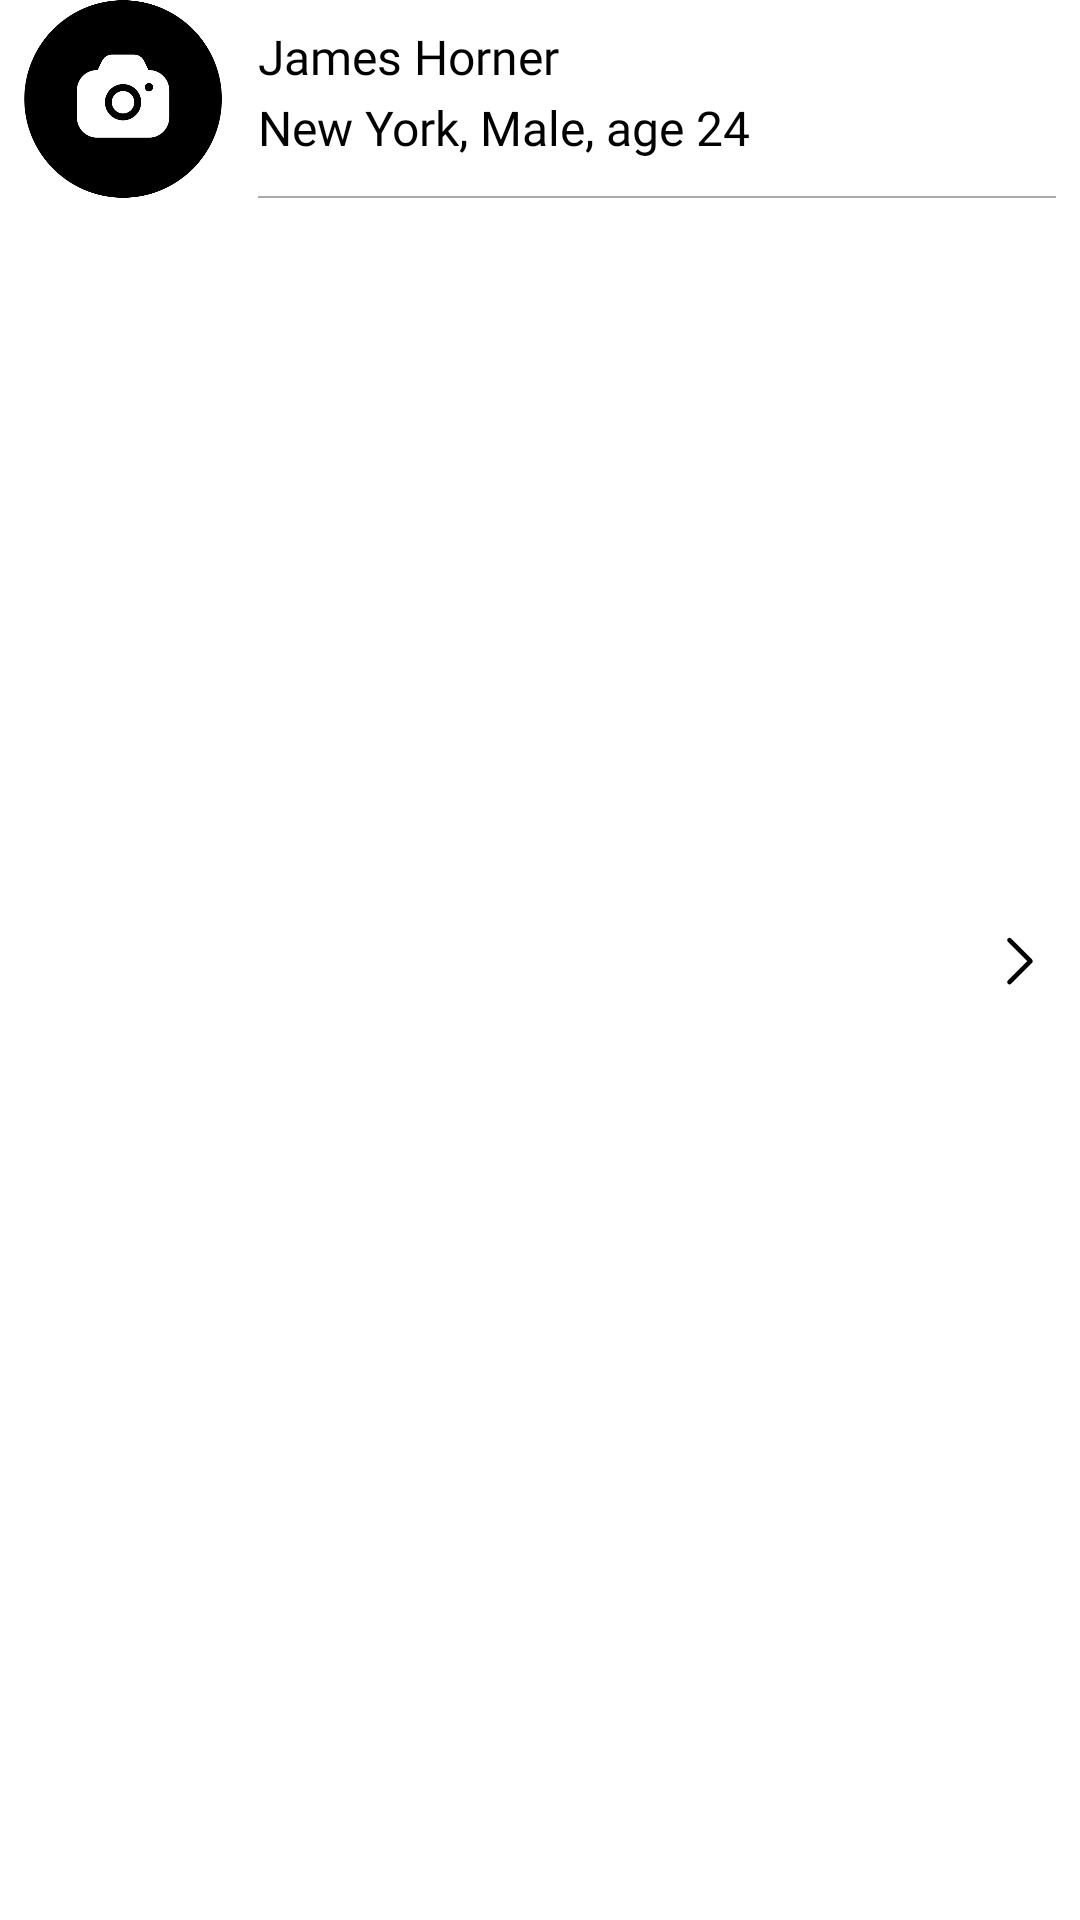

Locate icon controls on the screen. Image size 1080x1920, boxes as (x1=x1, y1=y1, x2=x2, y2=y2).
arrow right: (x1=1007, y1=937, x2=1033, y2=985)
